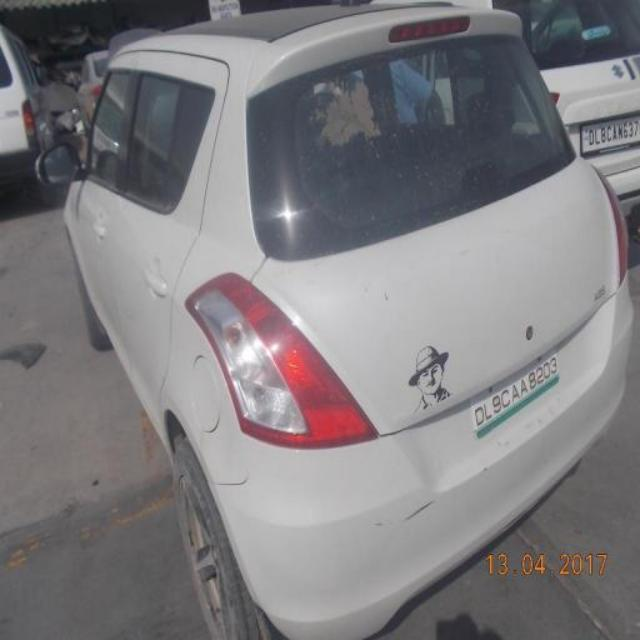scratch: (369, 500, 441, 531)
